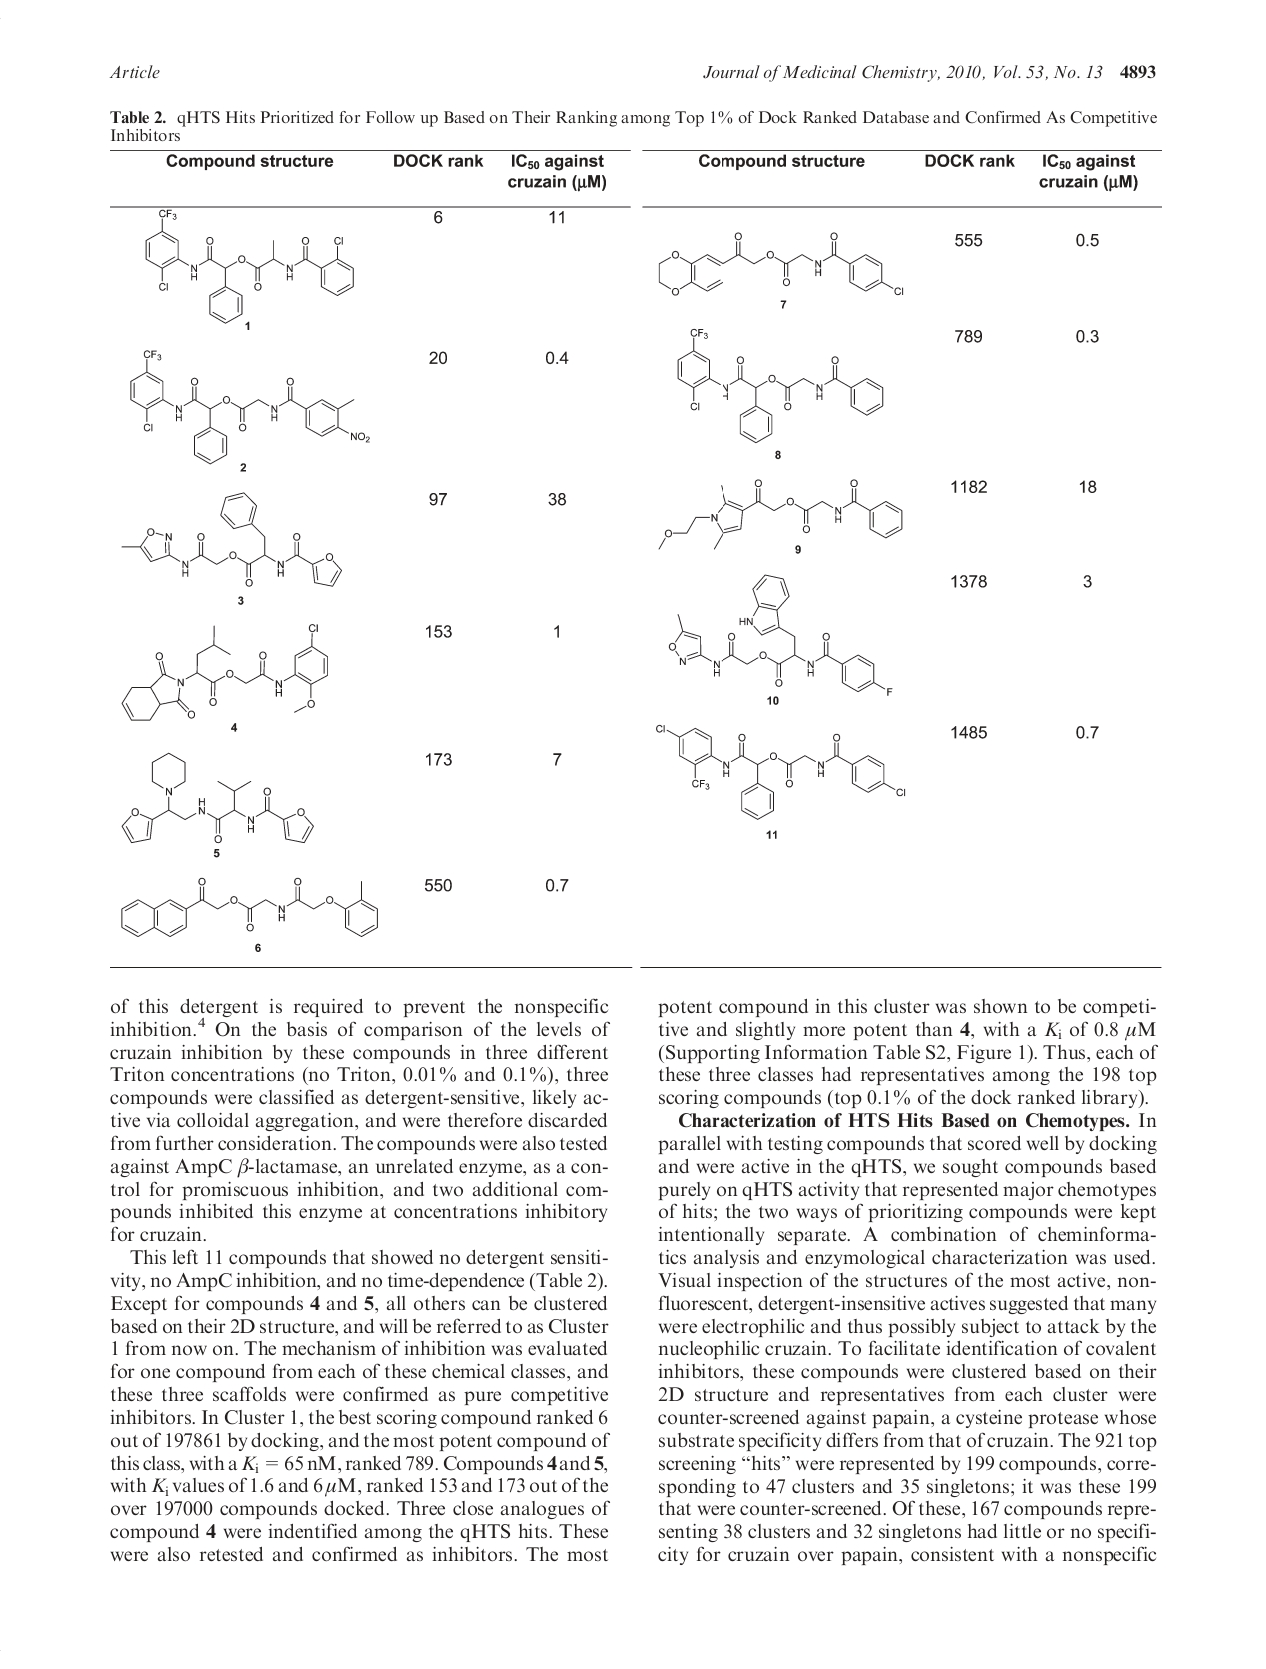exist_molecular: (666, 571, 895, 701), (128, 348, 372, 465), (653, 721, 908, 822), (141, 207, 356, 324), (676, 327, 886, 446), (118, 489, 344, 588), (120, 620, 332, 723), (656, 227, 906, 305), (654, 477, 906, 553), (118, 751, 315, 846), (118, 875, 380, 939)
